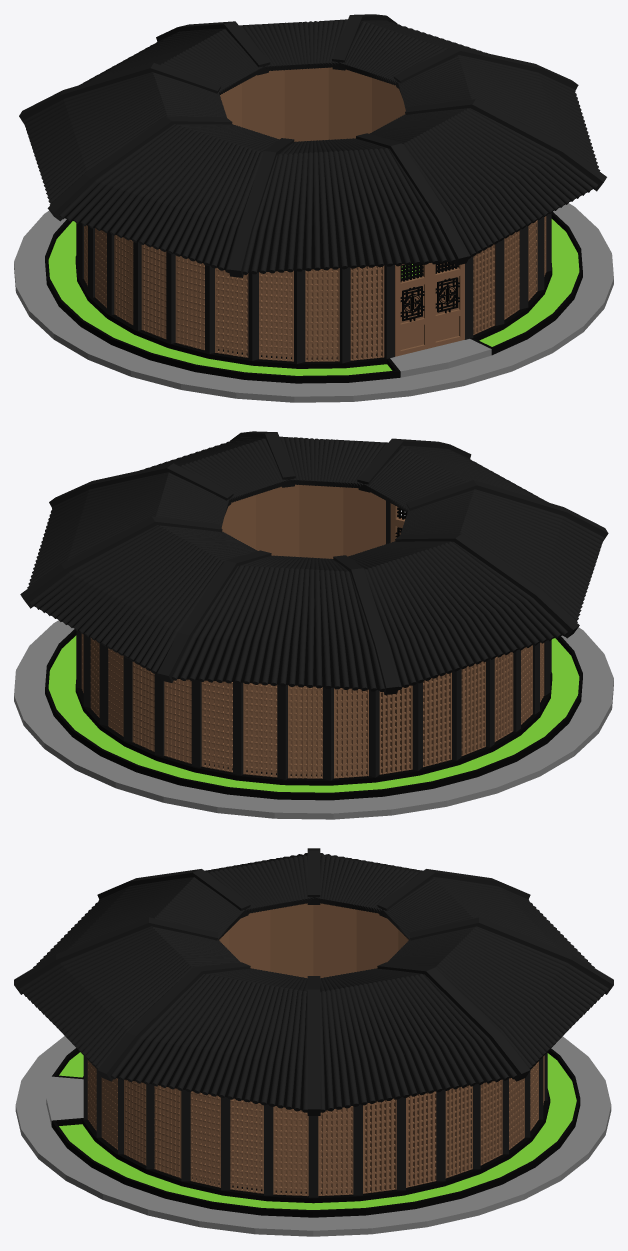
File: Lab - Door.fbx
3 views of the same model, one above another, from view 1: azimuth 30°, elevation 25°; view 2: azimuth 150°, elevation 25°; view 3: azimuth 270°, elevation 25° (orthographic).
Visible parts, largest first — view 1: Lab_Outside, Roof.013, Roof.011, Roof.009, Lab_Inside, Lab.041, Roof.007, Roof.015, Plants_Holder, Grass, Lab.007, Roof.002 (+24 smaller); view 2: Roof.005, Lab_Outside, Roof.007, Roof.003, Lab.041, Lab_Inside, Roof.011, Plants_Holder, Lab.007, Roof.017, Grass, Roof.002 (+24 smaller); view 3: Lab_Outside, Roof.015, Roof.017, Roof.003, Roof.009, Lab_Inside, Lab.041, Lab.007, Plants_Holder, Grass, Roof.005, Roof.013 (+24 smaller).
Boxes of the visible parts, x1,y1,x2,y2 form: Lab_Outside: (14, 203, 613, 402); Roof.013: (242, 138, 455, 274); Roof.011: (59, 124, 279, 272); Roof.009: (369, 108, 597, 258); Lab_Inside: (218, 67, 454, 357); Lab.041: (76, 213, 551, 363); Roof.007: (23, 72, 226, 205); Roof.015: (397, 55, 600, 171); Plants_Holder: (45, 212, 582, 383); Grass: (48, 219, 579, 375); Lab.007: (84, 216, 545, 361); Roof.002: (60, 172, 597, 273); Roof.005: (171, 555, 384, 691); Lab_Outside: (14, 620, 613, 819); Roof.007: (348, 541, 567, 690); Roof.003: (29, 525, 257, 675); Lab.041: (76, 501, 551, 780); Lab_Inside: (204, 484, 385, 774); Roof.011: (400, 489, 603, 622); Plants_Holder: (45, 629, 582, 800); Lab.007: (82, 638, 543, 778); Roof.017: (27, 472, 230, 588); Grass: (48, 635, 579, 792); Roof.002: (30, 589, 567, 690); Lab_Outside: (15, 1036, 611, 1236); Roof.015: (110, 968, 307, 1112); Roof.017: (320, 968, 517, 1112); Roof.003: (387, 926, 608, 1069); Roof.009: (19, 926, 240, 1069); Lab_Inside: (192, 903, 408, 1191); Lab.041: (83, 1052, 547, 1197); Lab.007: (88, 1062, 538, 1195); Plants_Holder: (51, 1048, 580, 1217); Grass: (59, 1052, 576, 1209); Roof.005: (382, 877, 594, 967); Roof.013: (33, 877, 245, 967).
Bounding box in the file's own units: 1965 × 688 × 1965.
